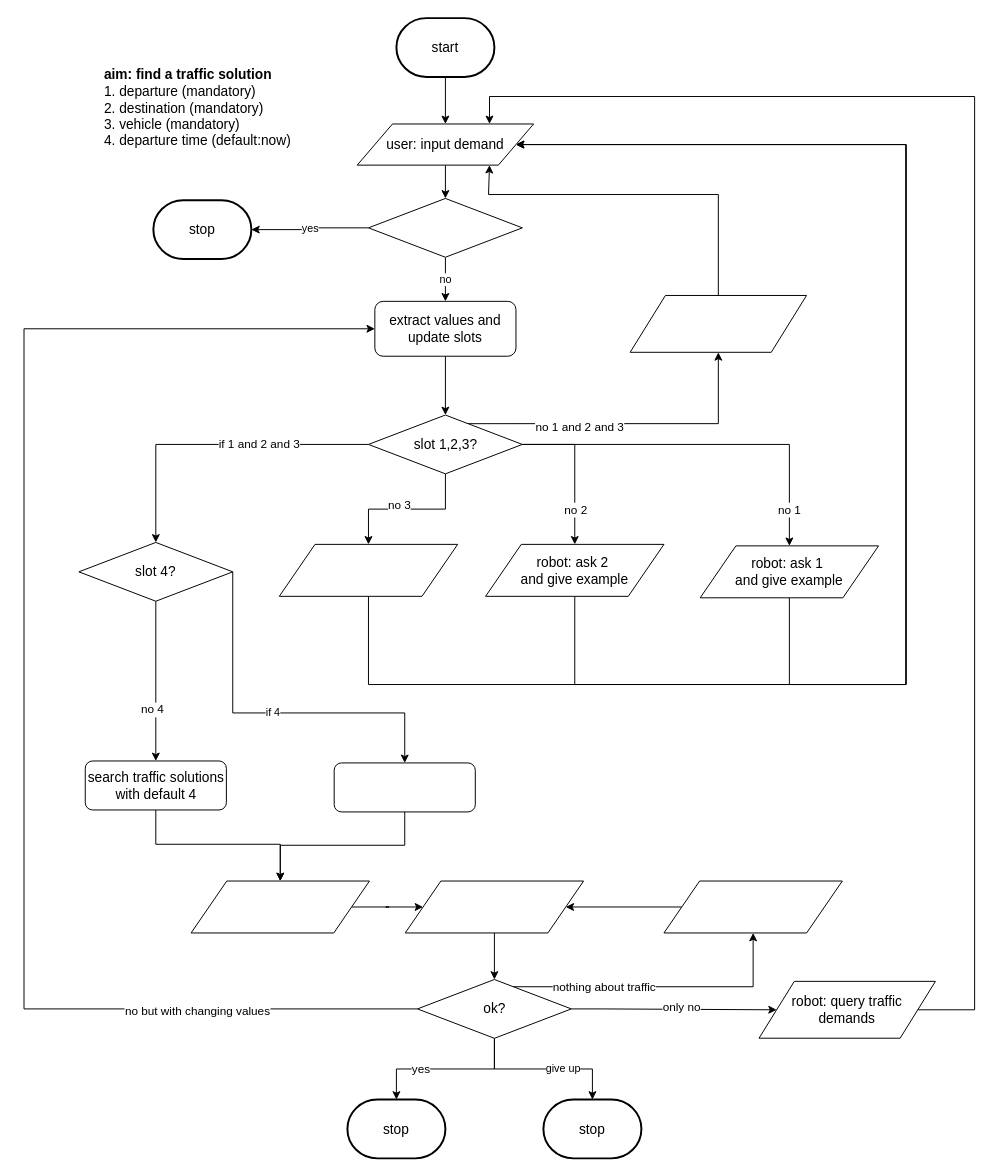
Some shapes in this 1000 by 1176 pixel diagram are drawn without their labels. Here are the shapes that lost their labels. From the top down, the box of each, then its label:
(368, 197, 522, 257): give up?
(629, 294, 807, 352): robot: ask and give examples to user
(278, 543, 458, 596): robot: ask 3 and give example
(333, 762, 475, 812): search traffic solutions with 4
(190, 880, 369, 933): robot:output solution list and confirm
(404, 880, 584, 933): user: input confirm
(663, 880, 842, 933): robot:give example answers(yes or no or change)
